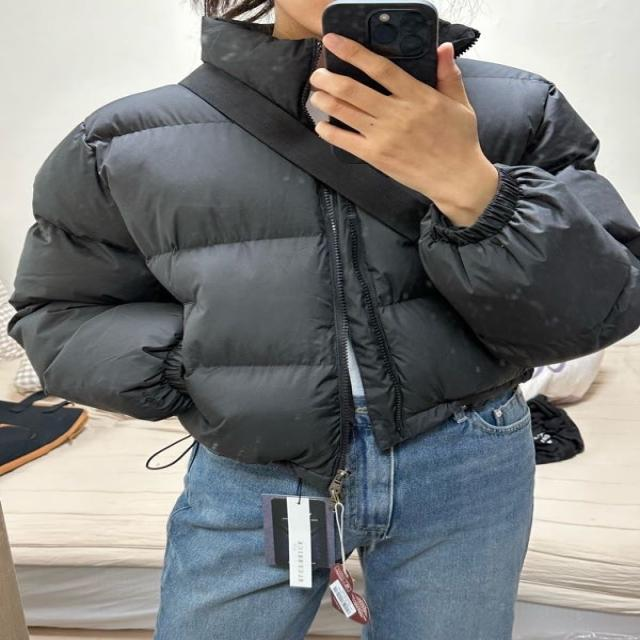denimpants: (150, 385, 529, 640)
padding: (13, 19, 640, 463)
